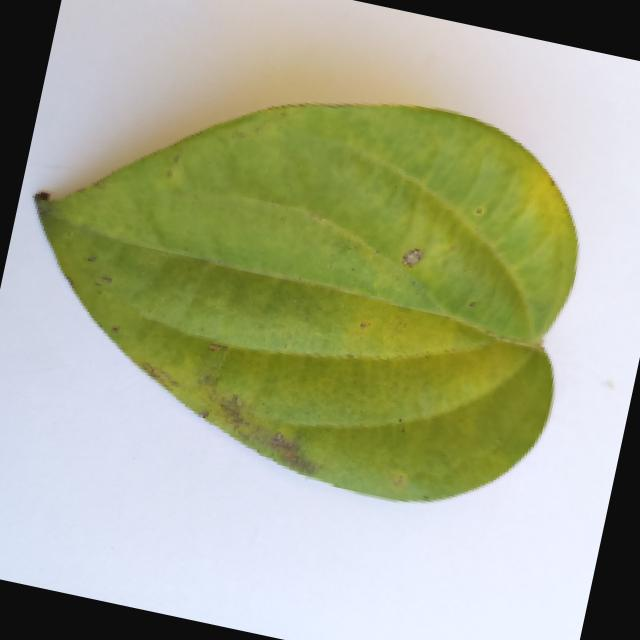slow-decline: (0, 19, 627, 536)
